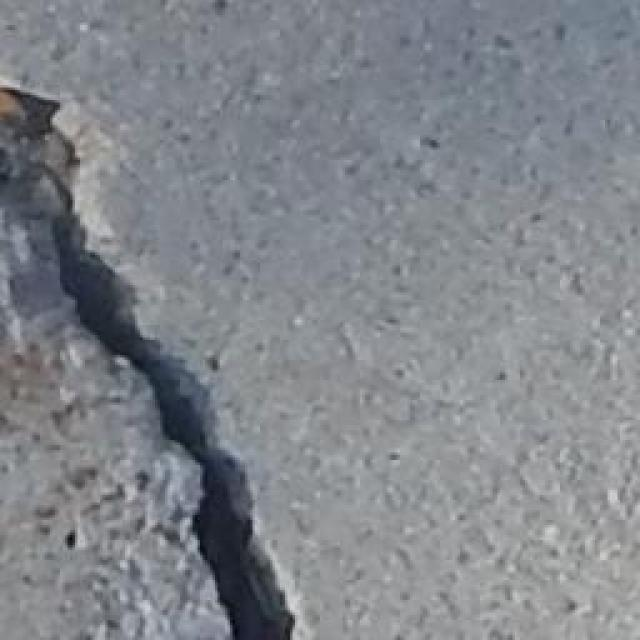concrete-crack: (0, 78, 311, 640)
